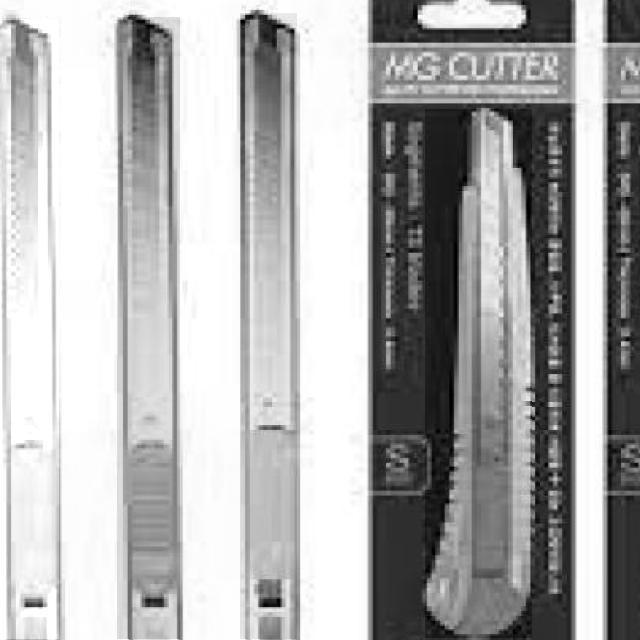estilete: (426, 109, 532, 638), (117, 17, 180, 640), (0, 19, 59, 640), (240, 13, 297, 640)
